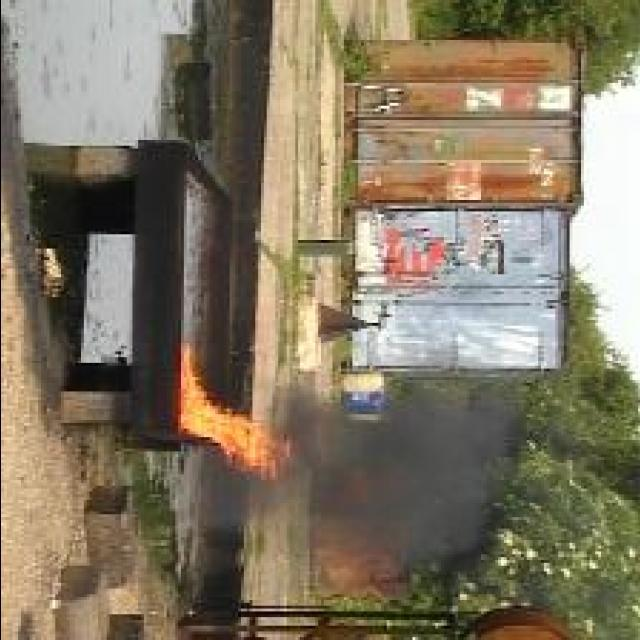Fire: (177, 347, 294, 479)
